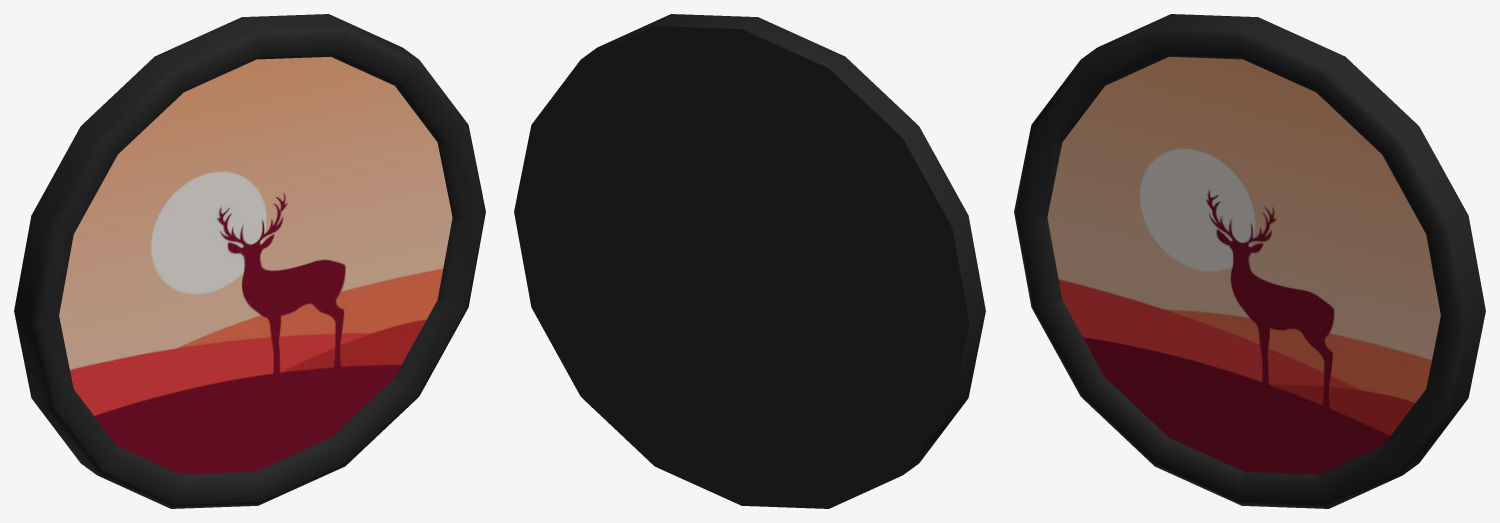
File: picture_022.fbx
The picture shows the model from 3 angles, left to right: view 1: azimuth 30°, elevation 25°; view 2: azimuth 150°, elevation 25°; view 3: azimuth 330°, elevation 25°; orthographic projection.
Parts seen in each view (by area): view 1: picture_022; view 2: picture_022; view 3: picture_022.
Boxes of the visible parts, x1=… form: picture_022: x1=14, y1=14, x2=485, y2=508; picture_022: x1=514, y1=14, x2=985, y2=508; picture_022: x1=1014, y1=14, x2=1485, y2=508.
Size of the model in its own units: 51.94 by 3.9 by 51.94.
